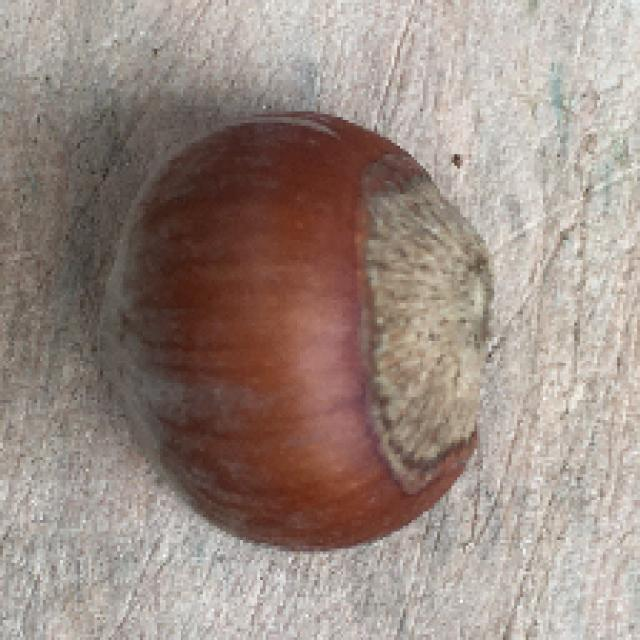qualityHazelnut: (91, 103, 495, 556)
